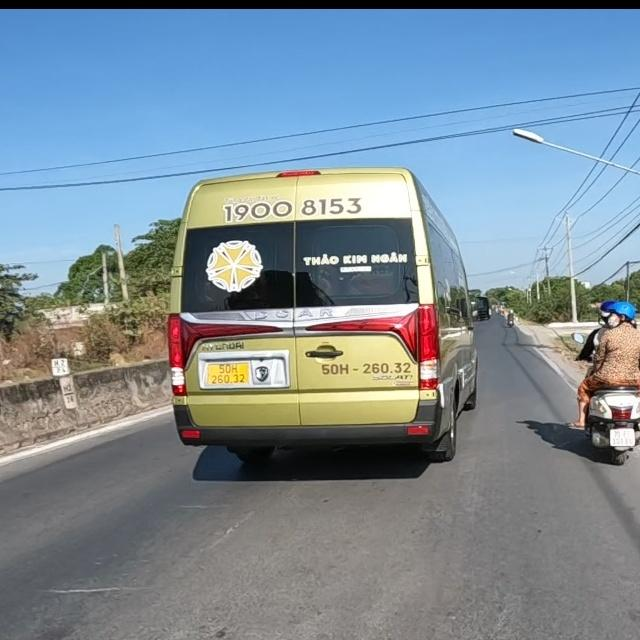license-plate: (205, 361, 251, 385), (608, 427, 637, 450)
